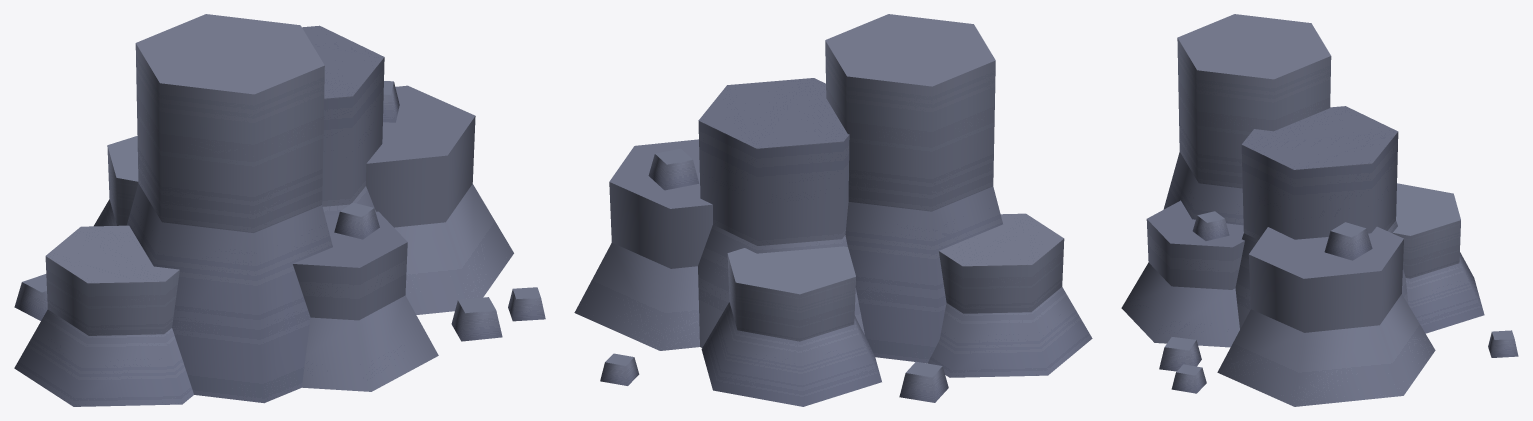
File: rocks-a_lev2.glb
The picture shows the model from 3 angles, left to right: view 1: azimuth 30°, elevation 25°; view 2: azimuth 150°, elevation 25°; view 3: azimuth 270°, elevation 25°; orthographic projection. The views are drawn at different scales.
Visible parts, largest first — view 1: rocks-a_lev2; view 2: rocks-a_lev2; view 3: rocks-a_lev2.
Boxes of the visible parts, x1,y1,x2,y2 form: rocks-a_lev2: [14, 14, 545, 406]; rocks-a_lev2: [574, 14, 1092, 406]; rocks-a_lev2: [1121, 14, 1518, 406].
Bounding box in the file's own units: 17.29 × 9.8 × 14.83.
1 material, 1 textured.
